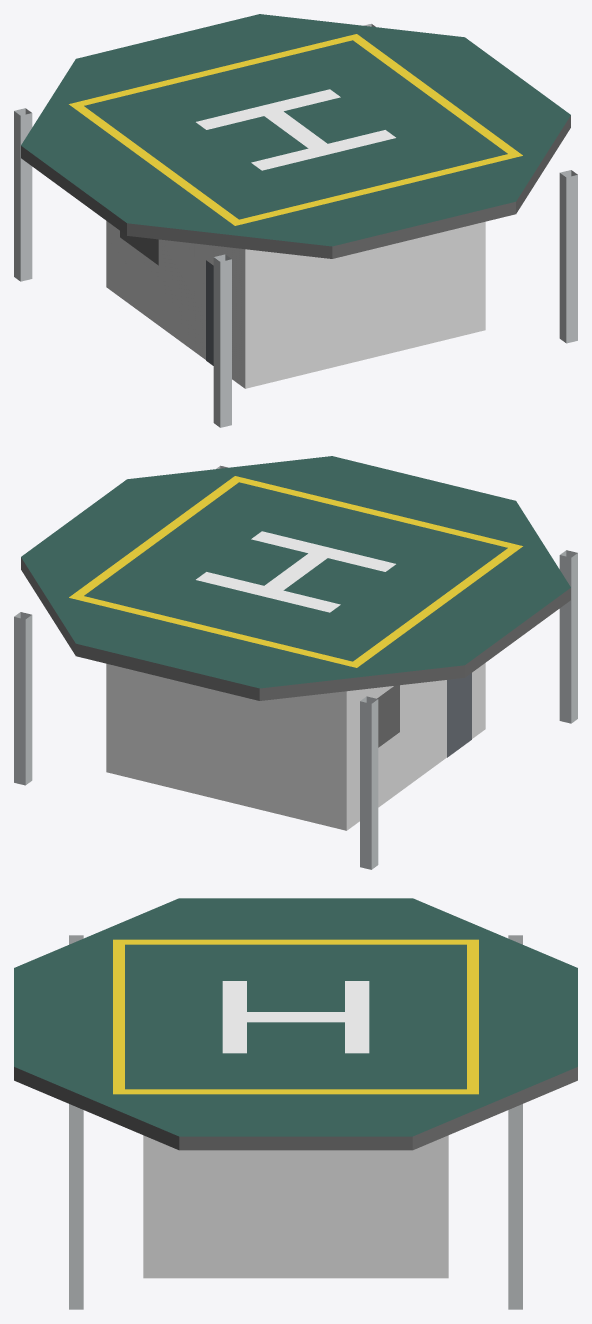
File: roofprop.fbx
3 views of the same model, one above another, from view 1: azimuth 30°, elevation 25°; view 2: azimuth 150°, elevation 25°; view 3: azimuth 270°, elevation 25° (orthographic). The views are drawn at different scales.
Visible parts, largest first — view 1: a2007/250/roofprop; view 2: a2007/250/roofprop; view 3: a2007/250/roofprop.
Part boxes in pixels (<box>): a2007/250/roofprop: <box>14,14,577,427</box>; a2007/250/roofprop: <box>14,456,577,869</box>; a2007/250/roofprop: <box>14,898,577,1309</box>.
Size of the model in its own units: 9.24 by 3.56 by 9.24.
